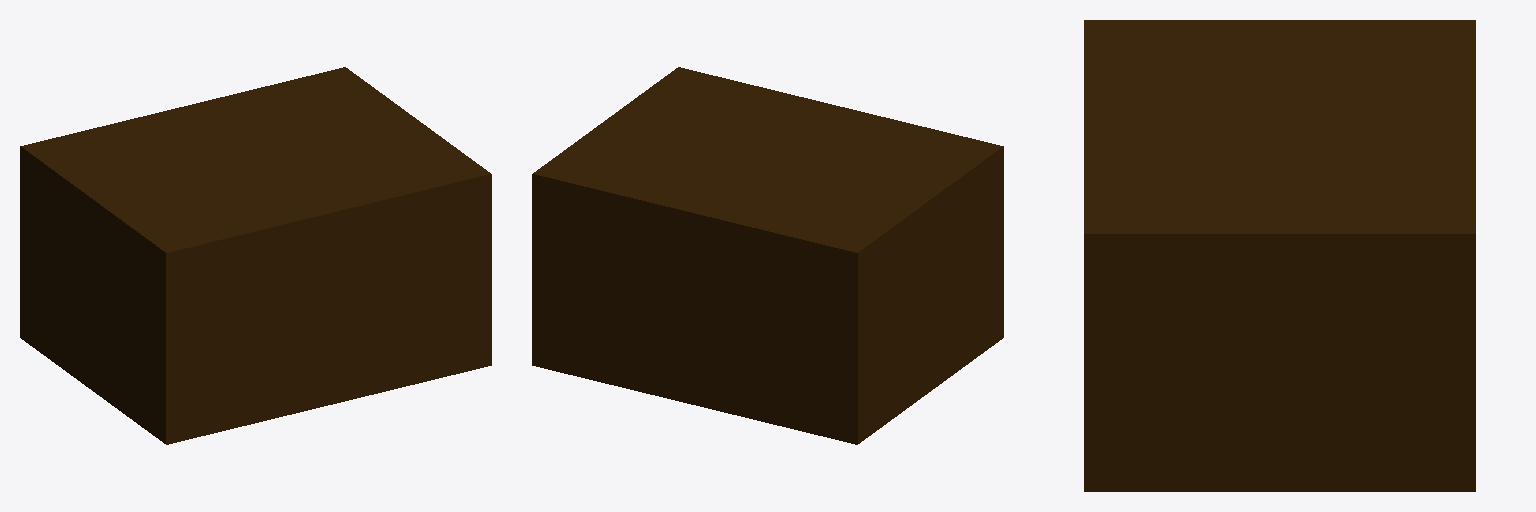
URDF robot description (box1):
<?xml version="1.0" ?>
<robot name="box1">
  <link name="box1_body">
    <visual>
      <origin xyz="0 0 0" rpy="0 0 0"/>
      <geometry>
        <box size="0.117 0.091 0.066"/>
      </geometry>
      <material name="CardBoard">
        <color rgba="0.2667536437511444 0.17454615235328674 0.06440283358097076 1" />
      </material>
    </visual>
    <collision>
      <origin xyz="0 0 0" rpy="0 0 0"/>
      <geometry>
        <box size="0.117 0.091 0.066"/>
      </geometry>
    </collision>
    <inertial>
      <origin xyz="0 0 0" rpy="0 0 0"/>
      <mass value="0.088"/>
      <inertia ixx="0.000104" ixy="0" ixz="0" iyy="0.000154" iyz="0" izz="0.0001829" />
    </inertial>
  </link>
</robot>

--- Facts derived from the render (not from the file) ---
Views: 3 orthographic renders of the robot side by side, from view 1: azimuth 30°, elevation 25°; view 2: azimuth 150°, elevation 25°; view 3: azimuth 270°, elevation 25°.
Model box1 with 1 links and 0 joints (none), rooted at box1_body, posed all joints at 0.
Visible links, largest first — view 1: box1_body; view 2: box1_body; view 3: box1_body.
Link boxes in pixels (x1,y1,x2,y2): box1_body: [20, 67, 491, 444]; box1_body: [532, 67, 1003, 444]; box1_body: [1084, 20, 1475, 491].
Size in the robot's own frame: 0.117 by 0.091 by 0.066 metres.
Geometry: primitives only (box / cylinder / sphere), no mesh files.